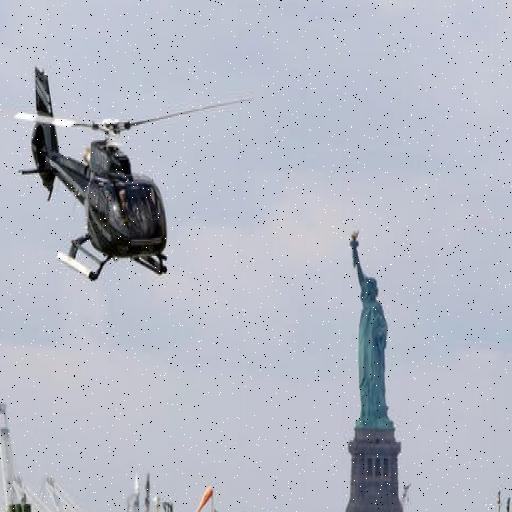helicopter: (1, 69, 257, 288)
